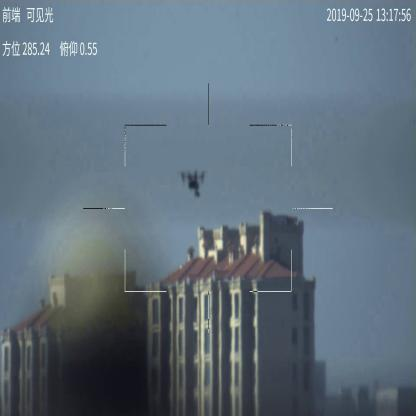uav: (180, 168, 205, 196)
